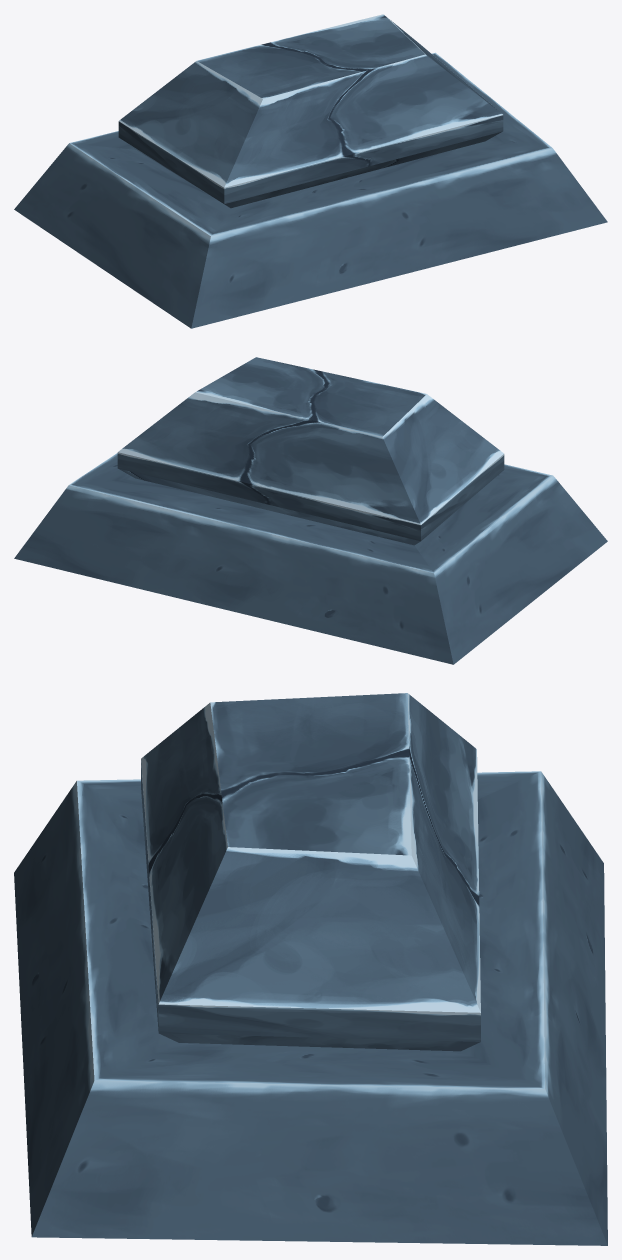
Rendered from SM_PROP_gravestone_base_05.fbx.
3 views of the same model, one above another, from view 1: azimuth 30°, elevation 25°; view 2: azimuth 150°, elevation 25°; view 3: azimuth 270°, elevation 25° (orthographic). The views are drawn at different scales.
Parts seen in each view (by area): view 1: SM_PROP_gravestone_base_05; view 2: SM_PROP_gravestone_base_05; view 3: SM_PROP_gravestone_base_05.
Boxes of the visible parts, <box> form: SM_PROP_gravestone_base_05: <box>14,14,607,328</box>; SM_PROP_gravestone_base_05: <box>14,357,607,664</box>; SM_PROP_gravestone_base_05: <box>14,693,607,1245</box>.
Size of the model in its own units: 146 by 50 by 96.
